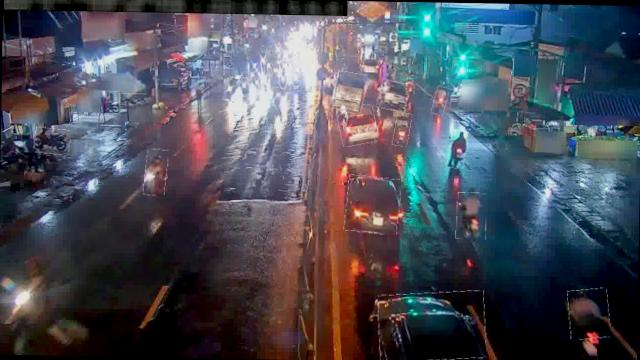Bike: (568, 288, 610, 340), (456, 192, 487, 240), (144, 148, 168, 196), (34, 127, 70, 156), (448, 130, 467, 167), (393, 112, 411, 146), (432, 86, 448, 115), (120, 94, 147, 109), (224, 76, 238, 100), (272, 88, 284, 106), (238, 77, 248, 96), (250, 72, 260, 90), (406, 76, 415, 95)
Car: (377, 290, 486, 360), (345, 175, 400, 233), (338, 105, 378, 146), (378, 80, 409, 112)
Truck: (332, 72, 368, 113), (332, 71, 367, 110)
